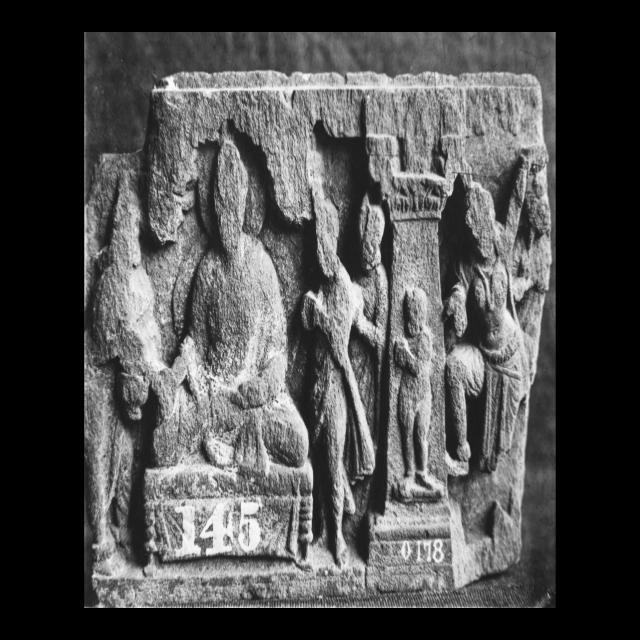buddha-sitting: (144, 131, 312, 564)
